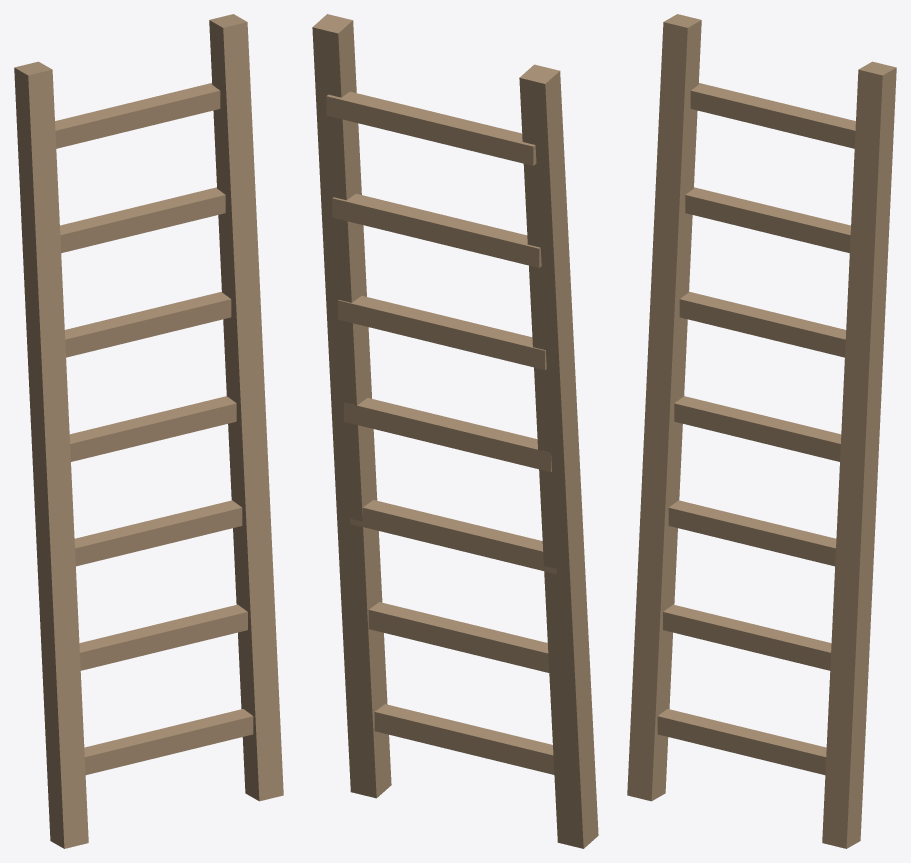
File: ladder.glb
The picture shows the model from 3 angles, left to right: view 1: azimuth 30°, elevation 25°; view 2: azimuth 150°, elevation 25°; view 3: azimuth 330°, elevation 25°; orthographic projection. The views are drawn at different scales.
Parts seen in each view (by area): view 1: Ladder; view 2: Ladder; view 3: Ladder.
Part boxes in pixels (bbox=[...]): Ladder: bbox=[14, 14, 283, 848]; Ladder: bbox=[312, 14, 598, 848]; Ladder: bbox=[627, 14, 896, 848].
Bounding box in the file's own units: 0.63 × 2.06 × 0.2497.
